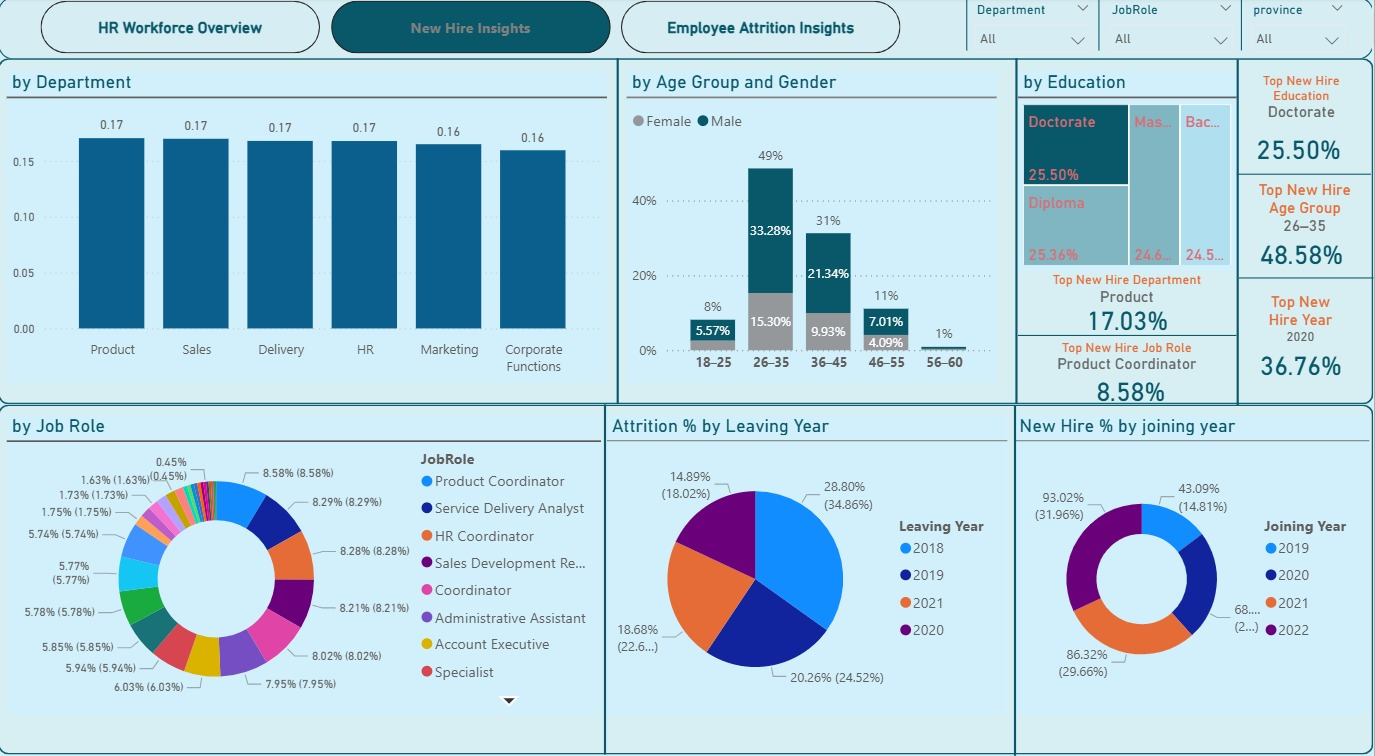

The page's visual inventory and layout, read from the dashboard file:
{"tool":"powerbi","page":{"name":"New Hire Insights","canvas":[1280,720],"ordinal":1},"visuals":[{"type":"shape","box":[0,378.9,1279.5,325.6],"z":0},{"type":"shape","title":"Employee Attrition Insights","box":[0,0,1279.5,58.1],"z":1000},{"type":"shape","box":[0,56.9,1279.5,322],"z":2000},{"type":"shape","box":[1152.4,157.4,124.7,15.7],"z":3000},{"type":"columnChart","title":"by Department","fields":{"Category":["HR Employee data.Department"],"Y":["Age Group.New Hire %"]},"box":[8.1,68.6,558.1,290.7],"z":4000},{"type":"donutChart","title":"by Job Role ","fields":{"Category":["Job_position_structure.JobRole"],"Y":["Age Group.New Hire by job role %"]},"box":[8.5,388.6,553.2,279.6],"z":5000},{"type":"treemap","title":"by Education","fields":{"Group":["HR Employee data.EducationField"],"Values":["Age Group.New Hire % by EducationField"]},"box":[949,69,203.4,186.4],"z":6000},{"type":"columnChart","title":"by Age Group and Gender","fields":{"Category":["Age Group.Age Group"],"Series":["HR Employee data.Gender"],"Y":["Age Group.New Hire % (Age Group & Gender)"]},"box":[584.7,69,343.8,290.5],"z":7000},{"type":"pieChart","fields":{"Category":["HR Employee data.JoiningYear"],"Y":["Age Group.Attrition Rate"]},"box":[566.5,388.6,372.8,279.6],"z":8000},{"type":"donutChart","title":"New Hire % by joining year","fields":{"Category":["HR Employee data.LeavingYear"],"Y":["Age Group.New Hire 8 %"]},"box":[945.4,388.6,330.5,279.6],"z":9000},{"type":"shape","box":[568.9,56.9,15.7,322],"z":10000},{"type":"shape","box":[939.3,56.9,15.7,322],"z":11000},{"type":"shape","box":[561.7,378.9,6.1,325.6],"z":12000},{"type":"shape","box":[943,380.1,6.1,325.6],"z":13000},{"type":"shape","box":[1145.1,58.1,15.7,322],"z":14000},{"type":"cardVisual","fields":{"Data":["Age Group.Top New Hire Department"]},"box":[961.1,244.5,177.9,48.4],"z":15000},{"type":"cardVisual","fields":{"Data":["Age Group.Top Dept New Hire %"]},"box":[995,275.2,110.2,47.2],"z":16000},{"type":"cardVisual","fields":{"Data":["Age Group.Top New Hire Job Role"]},"box":[964.8,307.5,170.7,48.4],"z":17000},{"type":"cardVisual","fields":{"Data":["Age Group.Top JobRole New Hire %"]},"box":[1004.7,341.4,110.2,47.2],"z":18000},{"type":"cardVisual","fields":{"Data":["Age Group.Top New Hire Education"]},"box":[1153.8,58.1,118.6,75.1],"z":19000},{"type":"cardVisual","fields":{"Data":["Age Group.Top Education New Hire %"]},"box":[1153.8,116.2,118.6,48.4],"z":20000},{"type":"cardVisual","fields":{"Data":["Age Group.Top New Hire Age Group"]},"box":[1154.8,157.4,122.3,82.3],"z":21000},{"type":"cardVisual","fields":{"Data":["Age Group.Top Age Group New Hire %"]},"box":[1157.2,214.3,113.8,49.6],"z":22000},{"type":"cardVisual","fields":{"Data":["Age Group.Top New Hire Year"]},"box":[1154.8,255.4,115,90.8],"z":23000},{"type":"cardVisual","fields":{"Data":["Age Group.Top Year New Hire %"]},"box":[1157.2,317.2,118.6,48.4],"z":24000},{"type":"shape","box":[1154.8,253,124.7,15.7],"z":25000},{"type":"shape","box":[949,307.5,203.4,15.7],"z":26000},{"type":"slicer","fields":{"Values":["Office_codes.province"]},"box":[1154.8,0,108.9,56.9],"z":27000},{"type":"slicer","fields":{"Values":["HR Employee data.Department"]},"box":[898.2,0,129.5,56.9],"z":28000},{"type":"slicer","fields":{"Values":["Job_position_structure.JobRole"]},"box":[1022.9,0,136.8,56.9],"z":29000},{"type":"shape","box":[886.1,0,30.3,49.6],"z":30000},{"type":"shape","box":[1002.3,0,43.6,49.6],"z":31000},{"type":"shape","box":[1135.4,0,43.6,49.6],"z":32000},{"type":"pageNavigator","box":[39.9,3.6,802.6,49.6],"z":33000}]}

Visuals, with their boxes in screenshot pixels (x1, y1, x2, y2), scaled from the page's 1280x720 canvas onto the 1375x756 screenshot:
shape: bbox(0, 398, 1374, 740)
"Employee Attrition Insights" shape: bbox(0, 0, 1374, 61)
shape: bbox(0, 60, 1374, 398)
shape: bbox(1238, 165, 1372, 182)
"by Department" columnChart: bbox(9, 72, 608, 377)
"by Job Role " donutChart: bbox(9, 408, 603, 702)
"by Education" treemap: bbox(1019, 72, 1238, 268)
"by Age Group and Gender" columnChart: bbox(628, 72, 997, 377)
pieChart - HR Employee data.JoiningYear x Age Group.Attrition Rate: bbox(609, 408, 1009, 702)
"New Hire % by joining year" donutChart: bbox(1016, 408, 1371, 702)
shape: bbox(611, 60, 628, 398)
shape: bbox(1009, 60, 1026, 398)
shape: bbox(603, 398, 610, 740)
shape: bbox(1013, 399, 1020, 741)
shape: bbox(1230, 61, 1247, 399)
cardVisual - Age Group.Top New Hire Department: bbox(1032, 257, 1224, 308)
cardVisual - Age Group.Top Dept New Hire %: bbox(1069, 289, 1187, 339)
cardVisual - Age Group.Top New Hire Job Role: bbox(1036, 323, 1220, 374)
cardVisual - Age Group.Top JobRole New Hire %: bbox(1079, 358, 1198, 408)
cardVisual - Age Group.Top New Hire Education: bbox(1239, 61, 1367, 140)
cardVisual - Age Group.Top Education New Hire %: bbox(1239, 122, 1367, 173)
cardVisual - Age Group.Top New Hire Age Group: bbox(1241, 165, 1372, 252)
cardVisual - Age Group.Top Age Group New Hire %: bbox(1243, 225, 1365, 277)
cardVisual - Age Group.Top New Hire Year: bbox(1241, 268, 1364, 364)
cardVisual - Age Group.Top Year New Hire %: bbox(1243, 333, 1370, 384)
shape: bbox(1241, 266, 1374, 282)
shape: bbox(1019, 323, 1238, 339)
slicer - Office_codes.province: bbox(1241, 0, 1357, 60)
slicer - HR Employee data.Department: bbox(965, 0, 1104, 60)
slicer - Job_position_structure.JobRole: bbox(1099, 0, 1246, 60)
shape: bbox(952, 0, 984, 52)
shape: bbox(1077, 0, 1124, 52)
shape: bbox(1220, 0, 1267, 52)
pageNavigator: bbox(43, 4, 905, 56)
